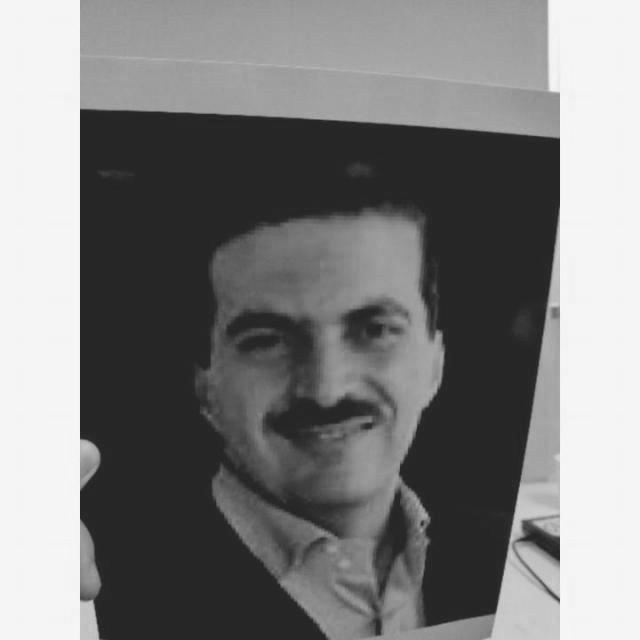fake: (80, 49, 559, 639)
